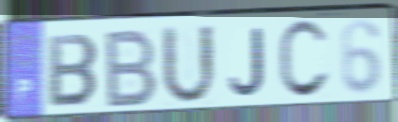6: (338, 16, 385, 97)
B: (104, 26, 160, 111), (47, 33, 102, 110)
C: (276, 17, 332, 103)
J: (226, 26, 267, 99)
U: (159, 23, 219, 109)
